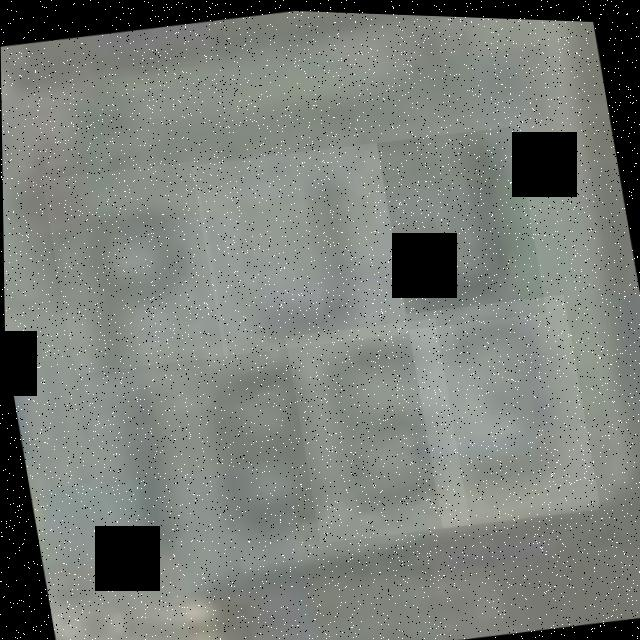3: (405, 286, 599, 529)
6: (284, 311, 470, 545)
D: (376, 118, 546, 330)
J: (191, 134, 409, 360)
P: (41, 155, 227, 378)
